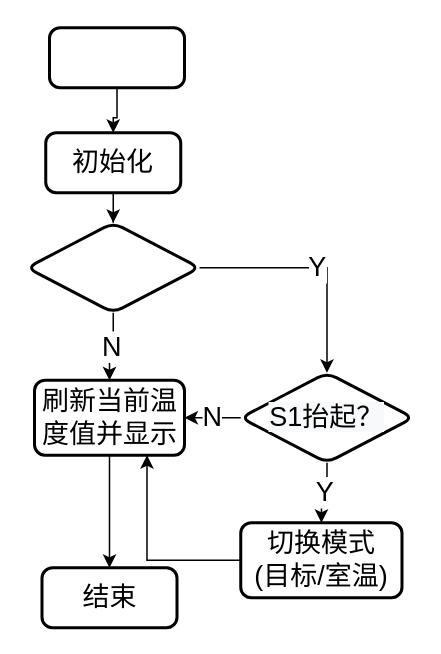
This 441x654 diagram has some shape labels left out. Here are the shapes that lost their labels. From the top down, the box of each, then its label:
(47, 26, 185, 88): 开始
(25, 220, 200, 314): S1按下？
